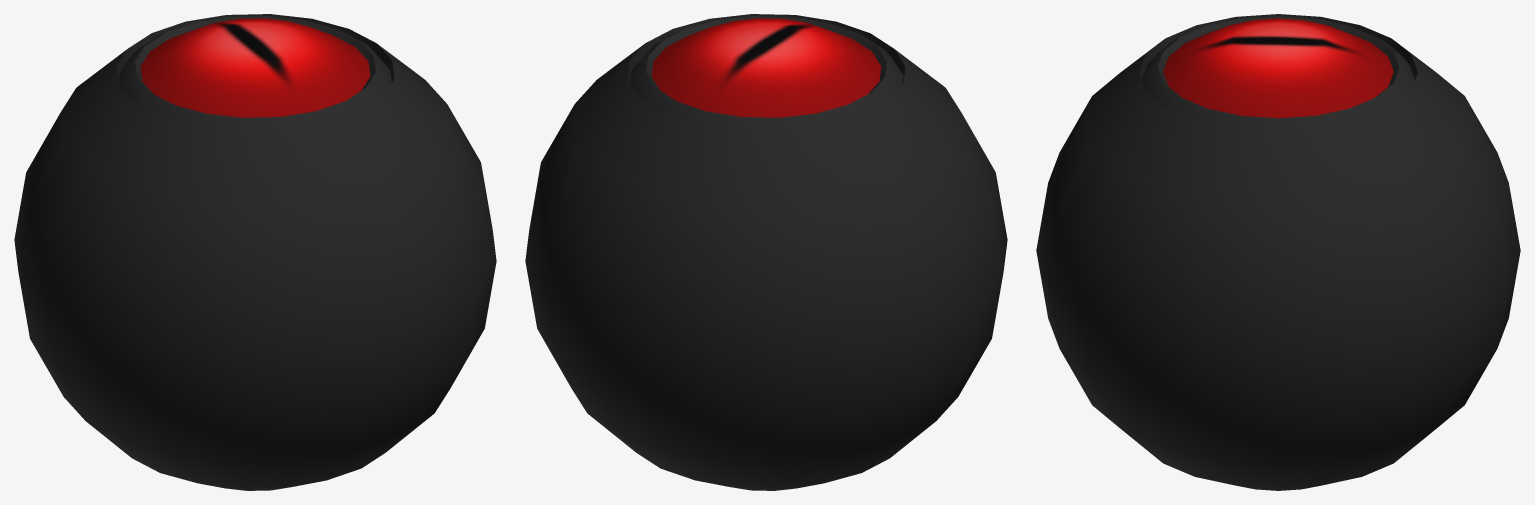
The model's file is Eye.fbx.
3 views of the same model, side by side, from view 1: azimuth 30°, elevation 25°; view 2: azimuth 150°, elevation 25°; view 3: azimuth 270°, elevation 25° (orthographic).
Parts seen in each view (by area): view 1: Sphere001; view 2: Sphere001; view 3: Sphere001.
Part boxes in pixels (box(x1,y1,x2,y2)): Sphere001: box(14, 14, 496, 490); Sphere001: box(525, 14, 1007, 490); Sphere001: box(1036, 14, 1520, 490).
Size of the model in its own units: 40 by 39 by 40.
